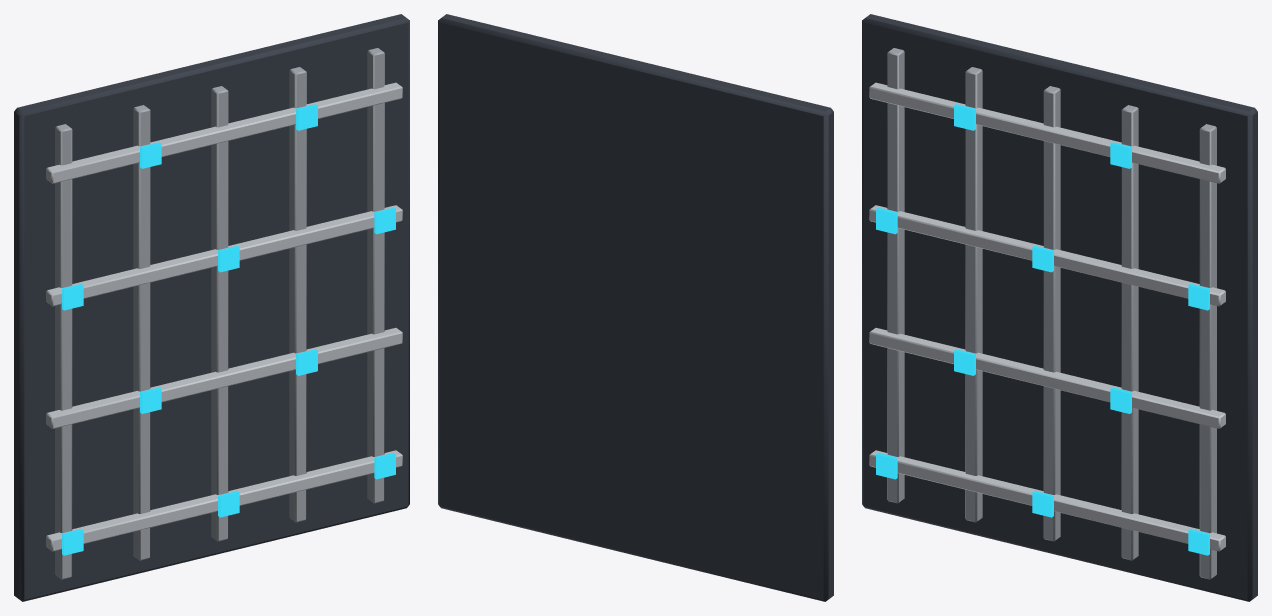
The model's file is wallpanel_lattice.glb.
The picture shows the model from 3 angles, left to right: view 1: azimuth 30°, elevation 25°; view 2: azimuth 150°, elevation 25°; view 3: azimuth 330°, elevation 25°; orthographic projection.
Visible parts, largest first — view 1: wallpanel_lattice; view 2: wallpanel_lattice; view 3: wallpanel_lattice.
Boxes of the visible parts, x1,y1,x2,y2 form: wallpanel_lattice: (14, 14, 409, 601); wallpanel_lattice: (438, 14, 833, 601); wallpanel_lattice: (862, 14, 1257, 601).
Size of the model in its own units: 1 by 1.2 by 0.1.
